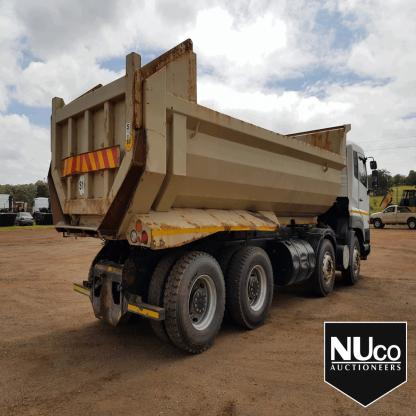dump_truck: (34, 32, 381, 358)
